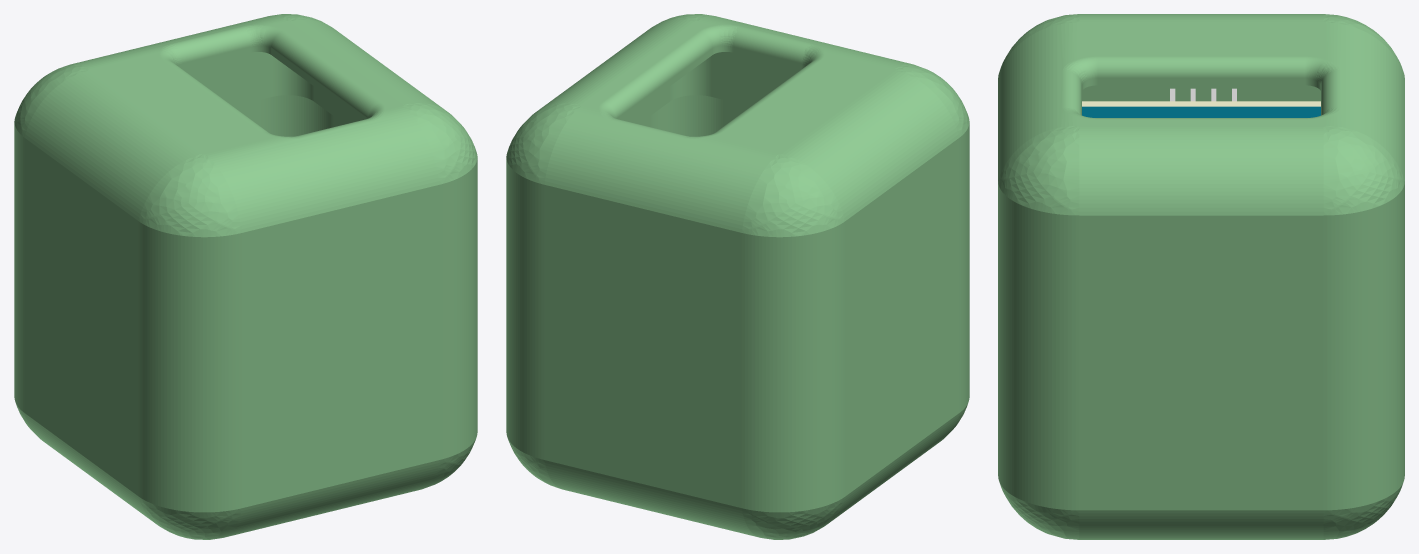
The model's file is qtomi.glb.
3 views of the same model, side by side, from view 1: azimuth 30°, elevation 25°; view 2: azimuth 150°, elevation 25°; view 3: azimuth 270°, elevation 25° (orthographic). The views are drawn at different scales.
Parts seen in each view (by area): view 1: Node11; view 2: Node11; view 3: Node11, Node5, Node4.
Part boxes in pixels (left/top/right/bottom): Node11: left=14, top=14, right=477, bottom=539; Node11: left=506, top=14, right=969, bottom=539; Node11: left=998, top=14, right=1404, bottom=539; Node5: left=1082, top=106, right=1320, bottom=117; Node4: left=1082, top=101, right=1320, bottom=106.
Bounding box in the file's own units: 50 × 55 × 50.
